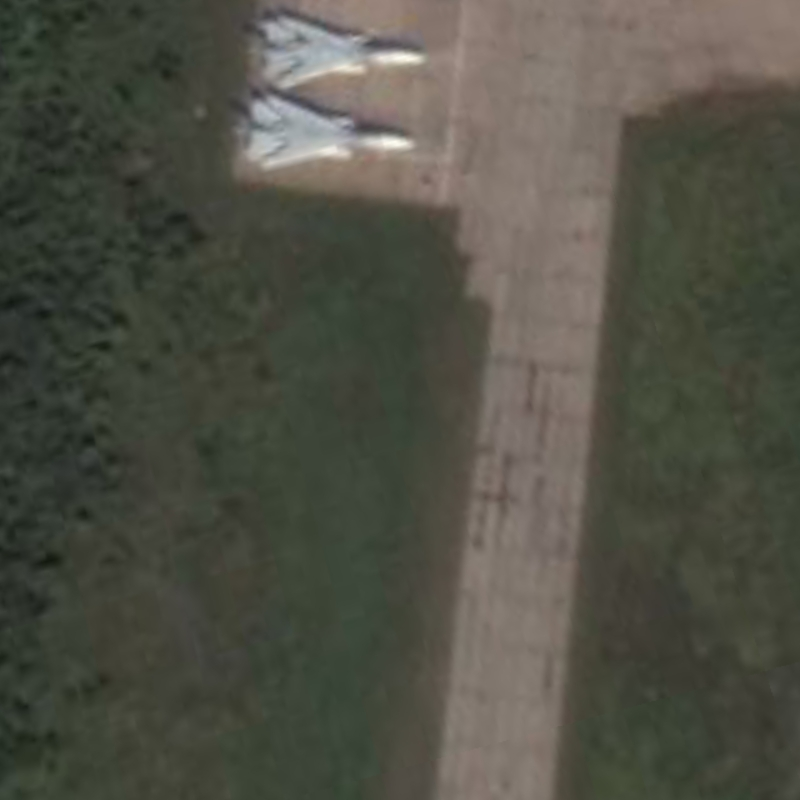A20: (243, 91, 418, 173), (257, 12, 430, 91)
